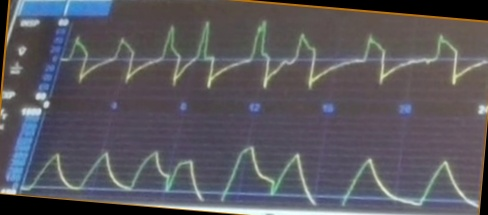Double_Triggering Flow: (88, 20, 435, 93)
Double_Triggering Volume: (56, 137, 446, 206)
